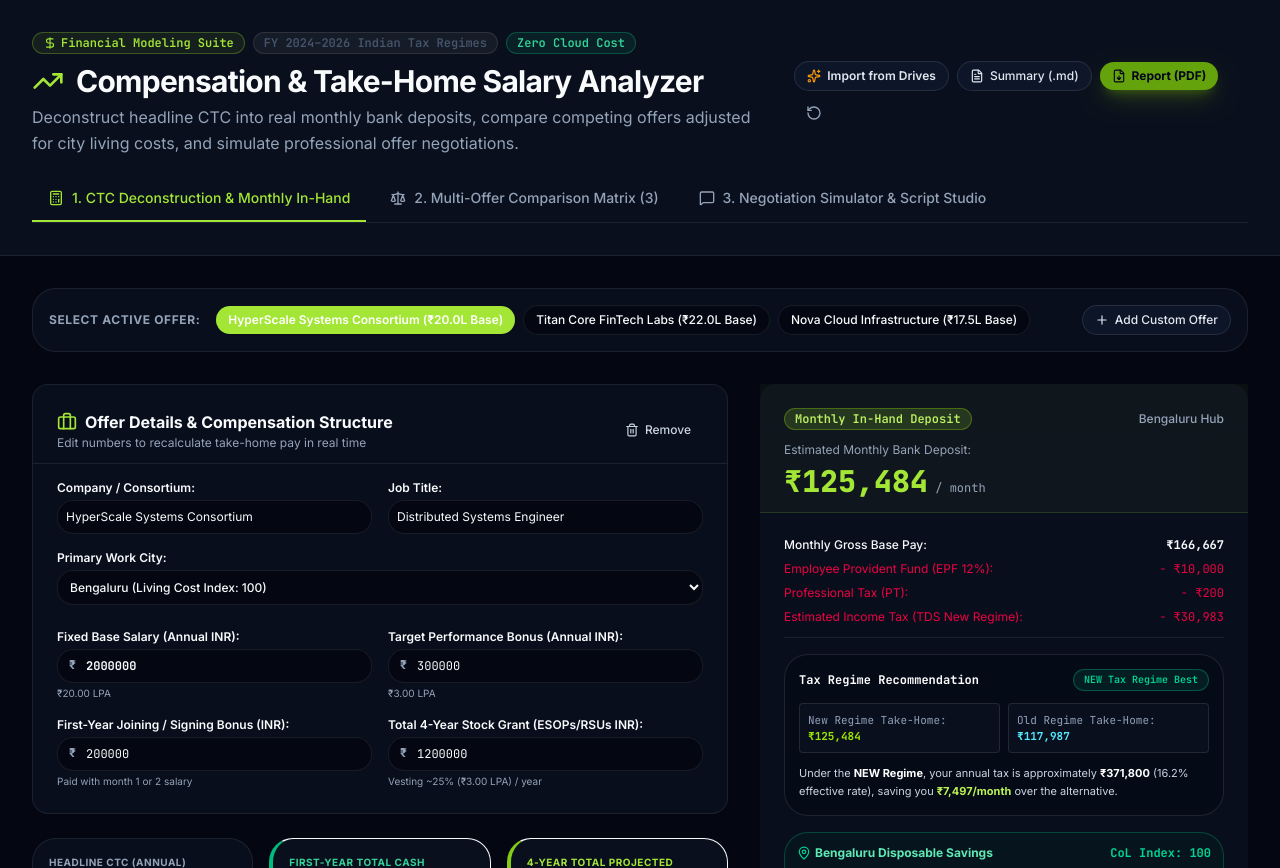
CompensationAnalyzerPage › switches to Multi-Offer Comparison Matrix tab and displays side-by-side rankings
Click the button "2. Multi-Offer Comparison Matrix (3)" at {"x": 524, "y": 205}, box [374, 188, 675, 222]
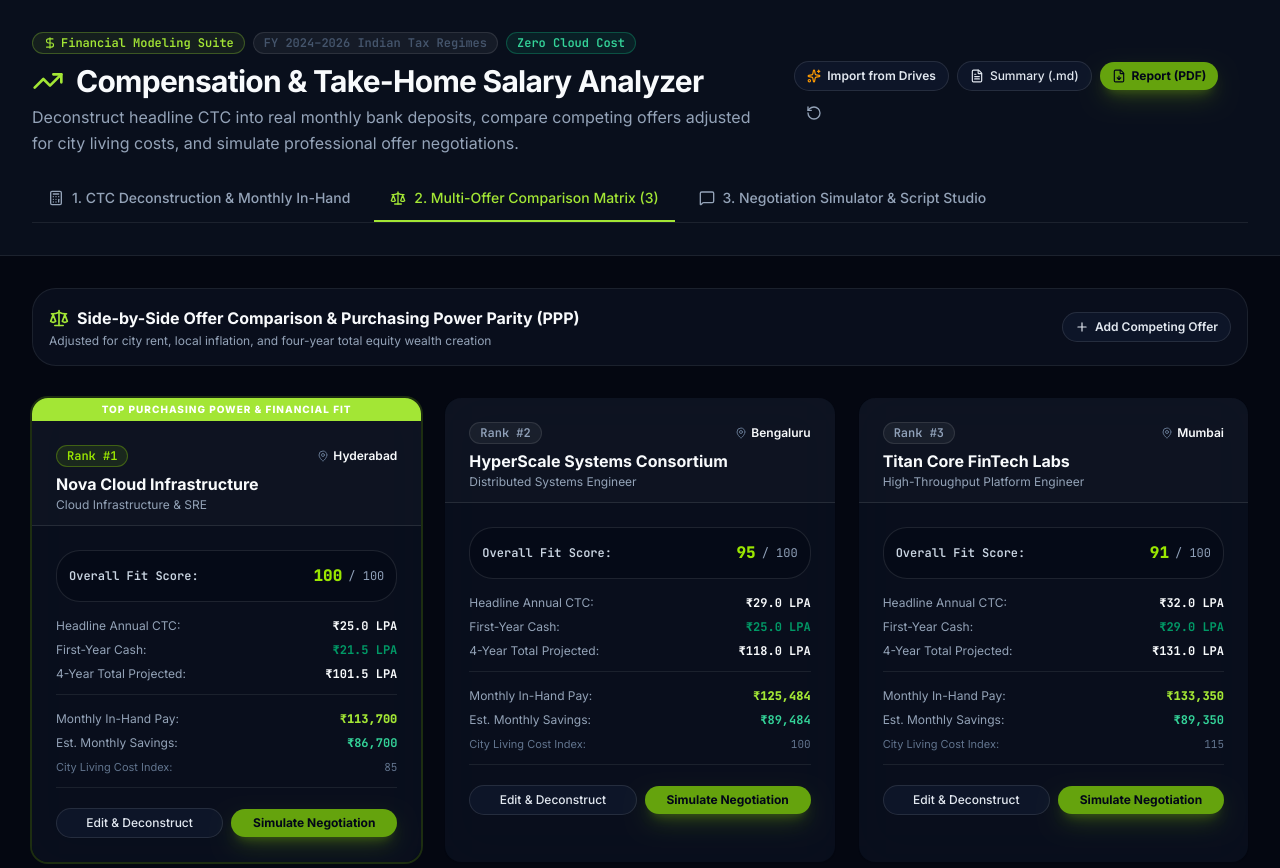
Expected: the heading "Side-by-Side Offer Comparison & Purchasing Power Parity" is shown, [77, 308, 580, 328]
Expected: the text "Rank #1" is shown, [56, 445, 128, 467]
Expected: the text "Rank #2" is shown, [469, 422, 542, 444]
